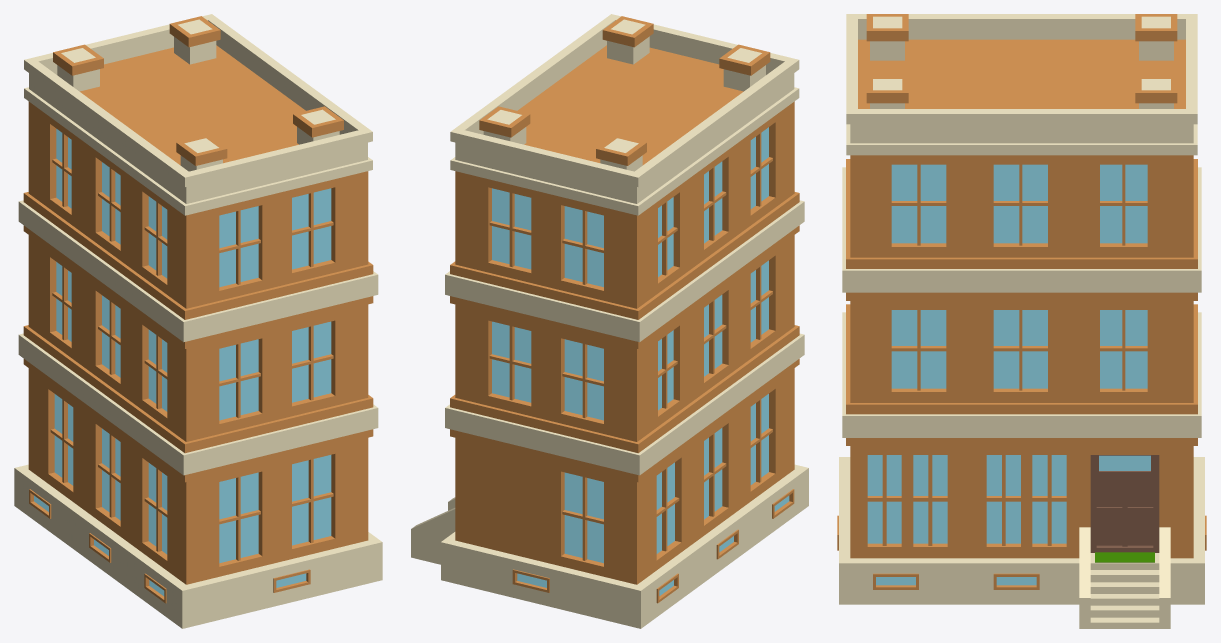
File: job_moa.glb
3 renders of one model, left to right at view 1: azimuth 30°, elevation 25°; view 2: azimuth 150°, elevation 25°; view 3: azimuth 270°, elevation 25°, orthographic. The views are drawn at different scales.
Visible parts, largest first — view 1: Building_04; view 2: Building_04; view 3: Building_04.
Boxes of the visible parts, x1,y1,x2,y2 form: Building_04: (14, 14, 382, 628); Building_04: (411, 14, 808, 628); Building_04: (837, 14, 1206, 628).
Size of the model in its own units: 2.71 by 4.8 by 3.23.
